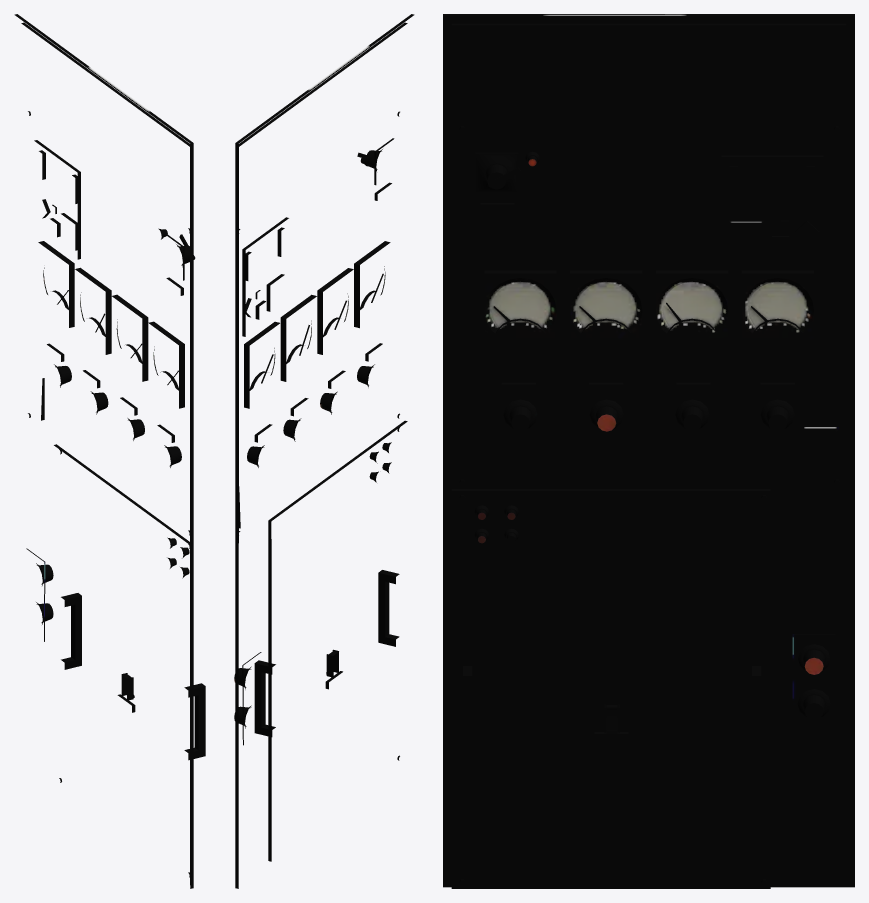
The picture shows the model from 3 angles, left to right: view 1: azimuth 30°, elevation 25°; view 2: azimuth 150°, elevation 25°; view 3: azimuth 270°, elevation 25°; orthographic projection. The views are drawn at different scales.
Visible parts, largest first — view 1: body0_model0_lod0_mesh0; view 2: body0_model0_lod0_mesh0; view 3: body0_model0_lod0_mesh0.
Part boxes in pixels (<box>): body0_model0_lod0_mesh0: <box>14,14,205,888</box>; body0_model0_lod0_mesh0: <box>234,14,414,888</box>; body0_model0_lod0_mesh0: <box>443,14,854,888</box>.
Size of the model in its own units: 3.79 by 112 by 47.99.
Materials: 1 (1 with a texture image).
